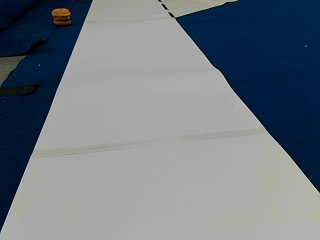burger: (51, 6, 72, 25)
